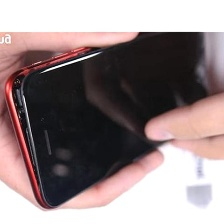phone: (2, 14, 224, 212)
